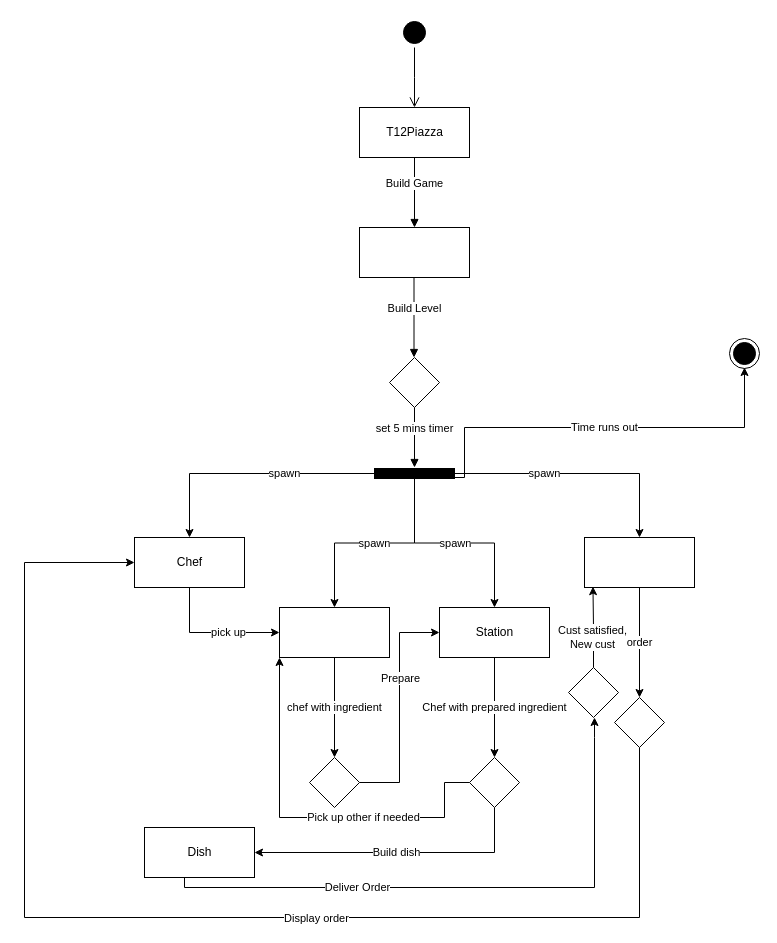
The diagram is 777 pixels wide and 943 high, and some of its shapes have lost their labels. Here are the shapes that lost their labels. From the top down, the centre of each, then its label:
point 414,252: Level
point 639,562: Customer
point 334,632: Ingredient
